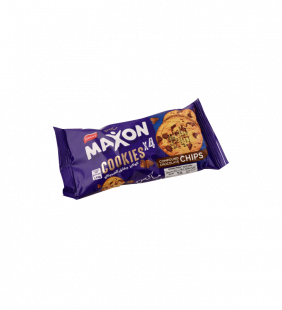Promotion: (49, 94, 233, 204)
